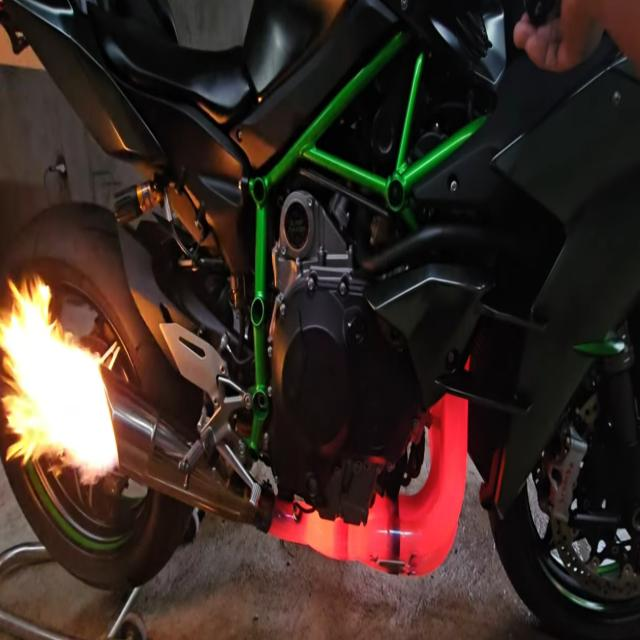fire: (1, 275, 119, 485)
